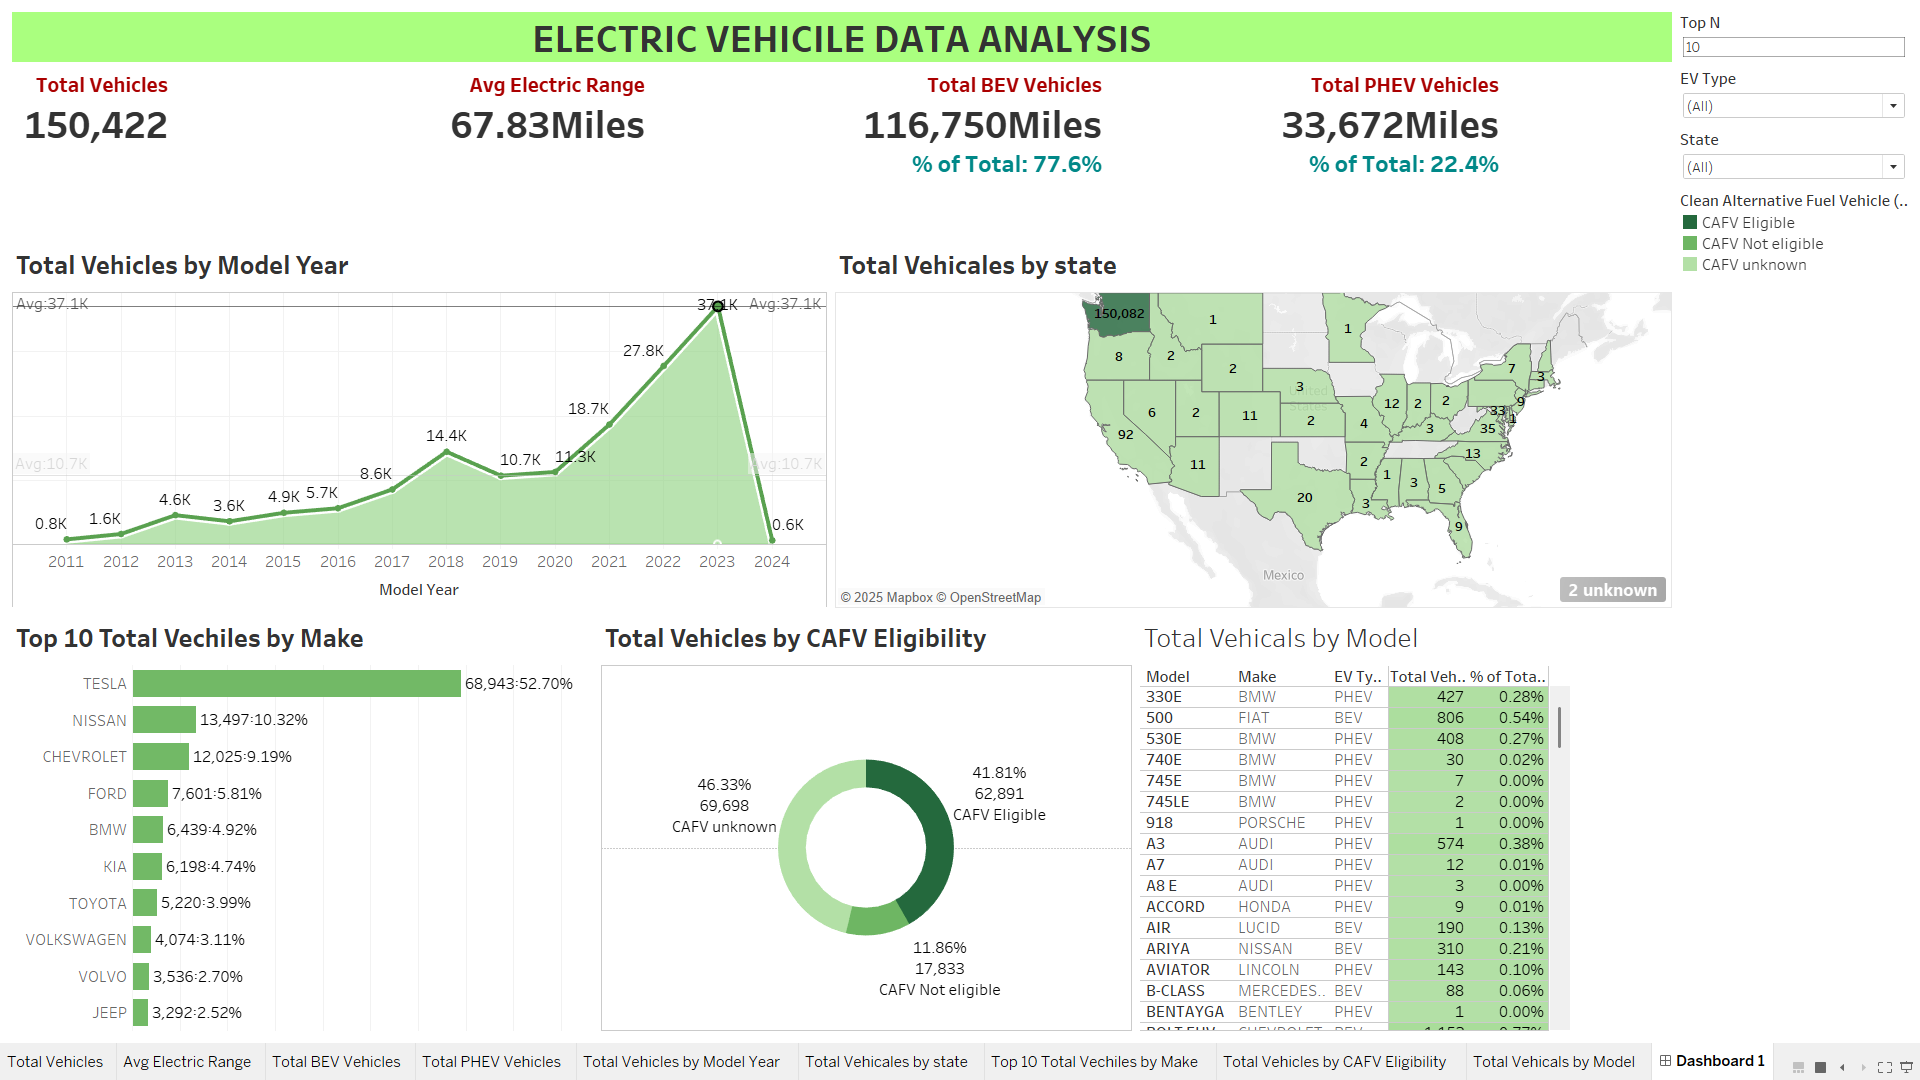

The dashboard page shown, as its layout file describes it:
{"tool":"tableau","page":{"name":"Dashboard 1","canvas":[1000,1000],"units":"permille","ordinal":0},"visuals":[{"type":"title","box":[4.8,9.4,847.9,68.2]},{"type":"image","param":"C:/Users/chand/Downloads/30ce338615426109a5a6d0099fba7573.jpg","box":[852.7,9.4,142.4,200.9]},{"type":"worksheet","title":"Total Vehicles","mark":"Automatic","box":[4.8,77.6,212.4,152.8]},{"type":"worksheet","title":"Avg Electric Range","mark":"Automatic","box":[217.3,77.6,211.8,152.8]},{"type":"worksheet","title":"Total BEV Vehicles","mark":"Automatic","box":[429.1,77.6,211.8,152.8]},{"type":"worksheet","title":"Total PHEV Vehicles","mark":"Automatic","box":[640.9,77.6,211.8,152.8]},{"type":"parameter","param":"[Parameters].[Parameter 1]","box":[852.7,210.3,142.4,65.8]},{"type":"worksheet","title":"Total Vehicles by Model Year","mark":"Area","rows":["Calculation_843580545831047168","Calculation_843580545831047168"],"cols":["Model Year"],"box":[4.8,230.3,418.4,356]},{"type":"worksheet","title":"Total Vehicales by state","mark":"Multipolygon","box":[423.3,230.3,429.5,356]},{"type":"filter","title":"Top 10 Total Vechiles by Make","param":"[federated.0ondva20l2onmd1d3xoc3020np2g].[none:Electric Vehicle Type:nk]","box":[852.7,276.1,142.4,71.7]},{"type":"filter","title":"Top 10 Total Vechiles by Make","param":"[federated.0ondva20l2onmd1d3xoc3020np2g].[none:State:nk]","box":[852.7,347.8,142.4,71.7]},{"type":"legend","title":"Total Vehicles by CAFV Eligibility","param":"[federated.0ondva20l2onmd1d3xoc3020np2g].[none:Clean Alternative Fuel Vehicle (C","box":[852.7,419.4,142.4,571.1]},{"type":"worksheet","title":"Top 10 Total Vechiles by Make","mark":"Automatic","rows":["Make"],"cols":["Calculation_843580545831047168"],"box":[4.8,586.3,299.4,404.3]},{"type":"worksheet","title":"Total Vehicles by CAFV Eligibility","mark":"Pie","rows":["Calculation_843580545847795719","Calculation_843580545847795719"],"box":[304.2,586.3,273.9,404.3]},{"type":"worksheet","title":"Total Vehicals by Model","mark":"Square","rows":["Model","Make","Electric Vehicle Type"],"box":[578.1,586.3,274.6,404.3]}]}

Visuals, with their boxes on the dashboard's canvas, which has no fixed pixel size, in thousandths of its width and height (x1, y1, x2, y2). These are canvas units, not pixel positions in the 1920x1080 screenshot, which may show the page scaled, cropped or inside an application window:
title: region(5, 9, 853, 78)
image: region(853, 9, 995, 210)
"Total Vehicles" worksheet: region(5, 78, 217, 230)
"Avg Electric Range" worksheet: region(217, 78, 429, 230)
"Total BEV Vehicles" worksheet: region(429, 78, 641, 230)
"Total PHEV Vehicles" worksheet: region(641, 78, 853, 230)
parameter: region(853, 210, 995, 276)
"Total Vehicles by Model Year" worksheet (Area marks): region(5, 230, 423, 586)
"Total Vehicales by state" worksheet (Multipolygon marks): region(423, 230, 853, 586)
"Top 10 Total Vechiles by Make" filter: region(853, 276, 995, 348)
"Top 10 Total Vechiles by Make" filter: region(853, 348, 995, 420)
"Total Vehicles by CAFV Eligibility" legend: region(853, 419, 995, 990)
"Top 10 Total Vechiles by Make" worksheet: region(5, 586, 304, 991)
"Total Vehicles by CAFV Eligibility" worksheet (Pie marks): region(304, 586, 578, 991)
"Total Vehicals by Model" worksheet (Square marks): region(578, 586, 853, 991)
